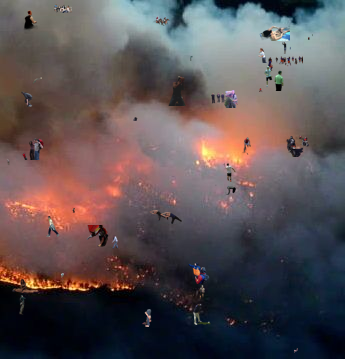Human: (168, 76, 186, 106), (286, 135, 310, 157), (259, 24, 290, 41), (268, 56, 303, 71), (187, 262, 210, 284), (86, 225, 109, 247), (149, 210, 185, 224), (264, 66, 284, 91), (211, 90, 238, 108), (22, 138, 44, 160), (12, 279, 40, 294), (193, 304, 211, 325), (23, 10, 38, 34), (46, 216, 60, 237), (222, 163, 236, 182), (215, 183, 236, 195), (110, 235, 123, 250), (21, 91, 33, 107), (142, 309, 152, 327), (153, 16, 170, 26), (54, 4, 72, 13), (242, 137, 251, 155), (19, 295, 26, 315), (258, 48, 267, 63), (282, 42, 291, 54), (198, 285, 205, 300), (33, 75, 42, 84), (59, 272, 64, 280), (6, 158, 10, 166), (308, 34, 313, 40), (82, 309, 85, 317), (294, 348, 298, 353), (259, 88, 263, 93), (71, 208, 75, 213), (133, 117, 138, 121), (190, 55, 193, 61)
